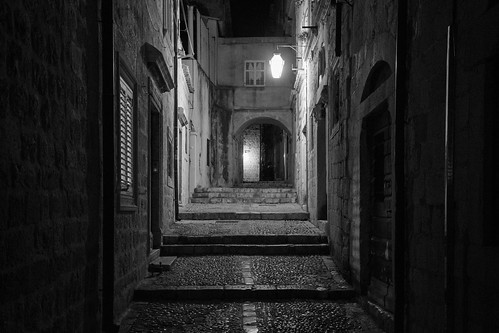building: (1, 6, 181, 333), (315, 1, 499, 319), (143, 1, 217, 209)
